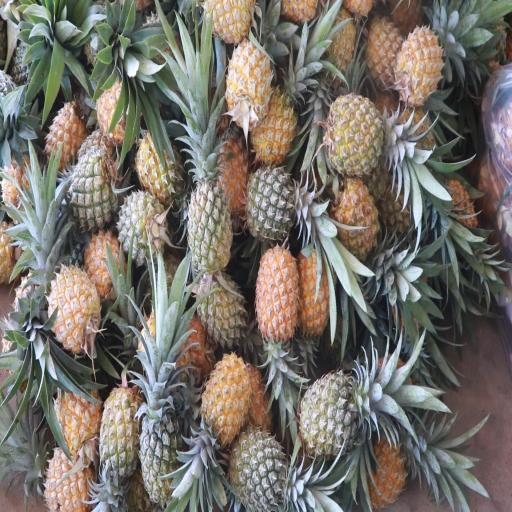------------------------------: (184, 150, 234, 273), (324, 95, 395, 175), (228, 426, 294, 507), (137, 398, 182, 499), (130, 120, 185, 196), (194, 266, 244, 348), (80, 229, 126, 303), (360, 11, 402, 85), (40, 104, 85, 170)
Pineapple - v8 v1: (45, 268, 100, 352), (202, 348, 250, 441), (252, 240, 296, 341), (328, 174, 380, 258), (96, 382, 138, 482), (51, 374, 100, 458), (220, 37, 266, 122), (399, 21, 447, 99), (295, 239, 334, 333), (362, 426, 408, 502), (41, 442, 91, 510), (248, 83, 293, 155)
